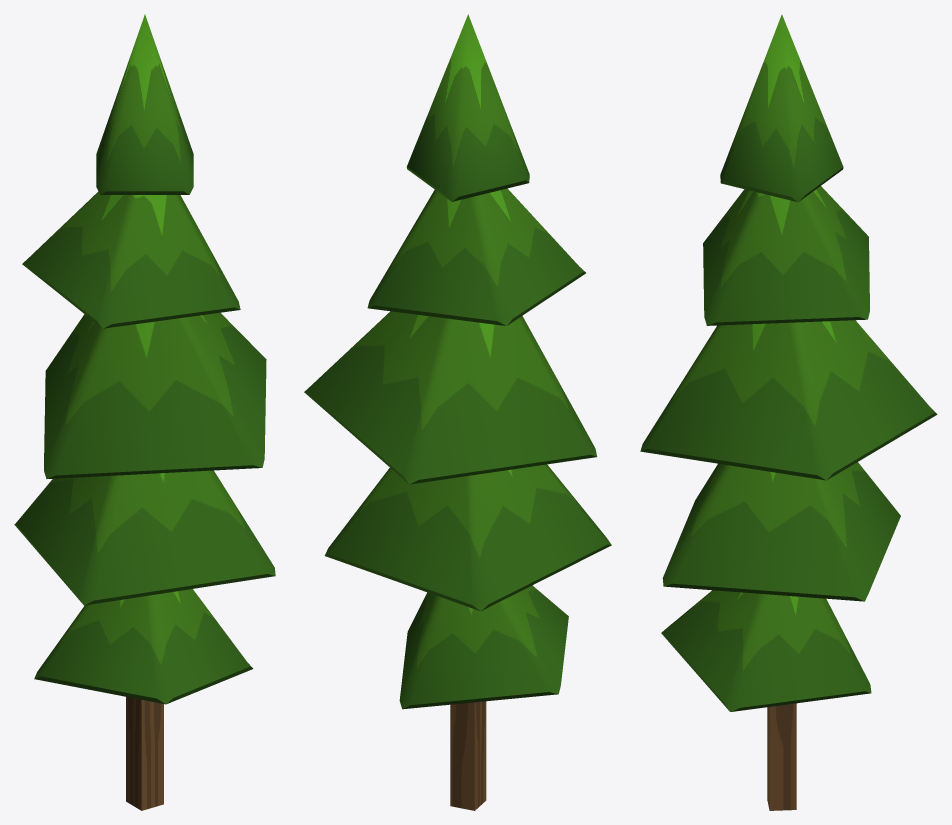
File: treePine.FBX
3 views of the same model, side by side, from view 1: azimuth 30°, elevation 25°; view 2: azimuth 150°, elevation 25°; view 3: azimuth 270°, elevation 25° (orthographic).
Parts seen in each view (by area): view 1: treePine; view 2: treePine; view 3: treePine.
Part boxes in pixels (x1,y1,x2,y2): treePine: (14, 14, 275, 810); treePine: (304, 14, 611, 810); treePine: (640, 14, 937, 810).
Size of the model in its own units: 2.03 by 2.04 by 6.
Materials: 2 (2 with a texture image).
